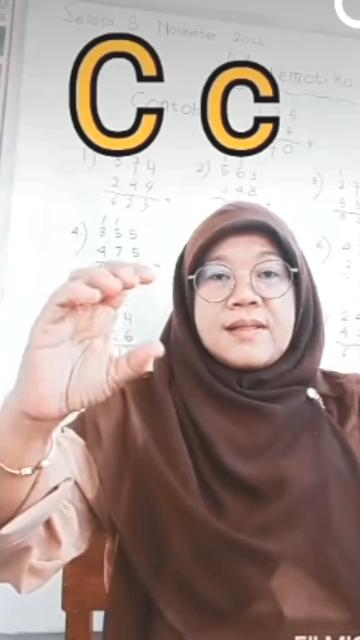C: (21, 254, 163, 422)
